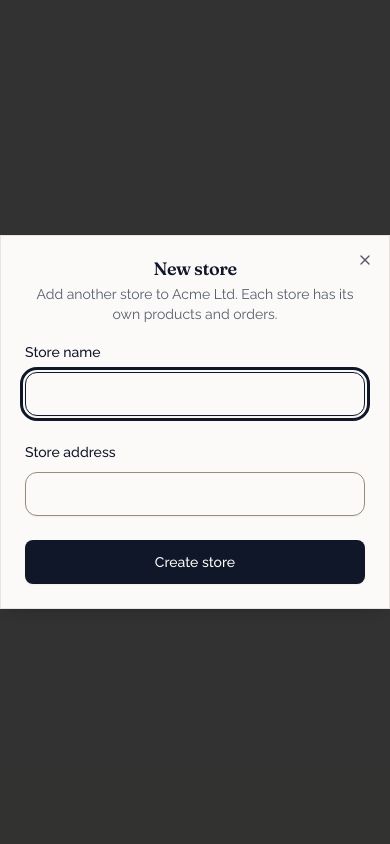
Test case: NewStoreDialog › shows a taken address on the address field and focuses it
In the field labelled "Store name": (195, 394) left=25, top=372, right=365, bottom=416, type "Second Shop"
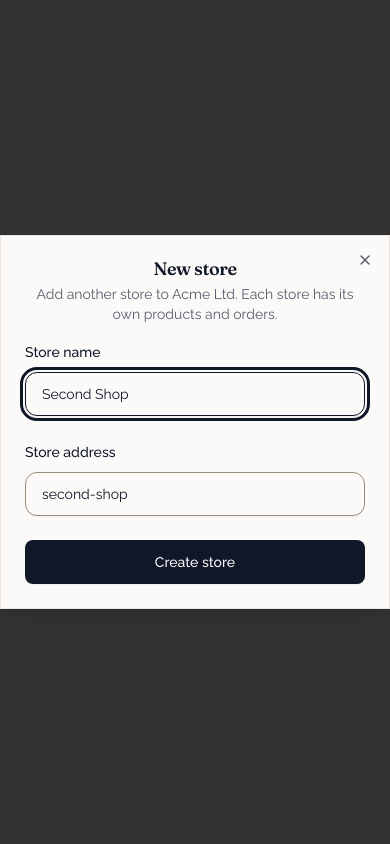
Click the button "Create store": (195, 562) left=25, top=540, right=365, bottom=584
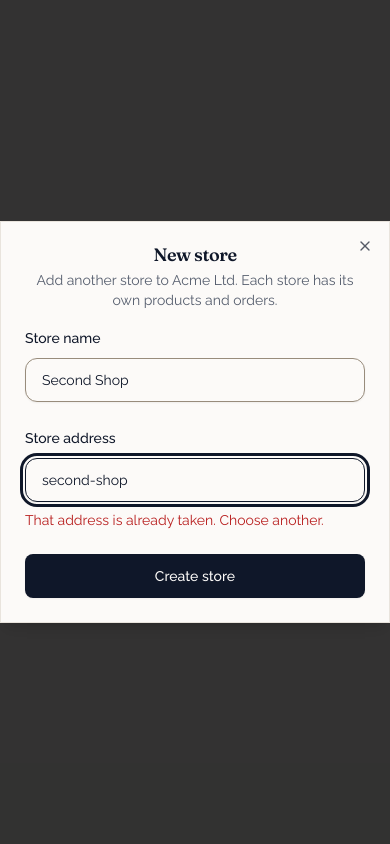
Check: the text "That address is already taken. Choose another." is shown, box left=25, top=510, right=365, bottom=530
